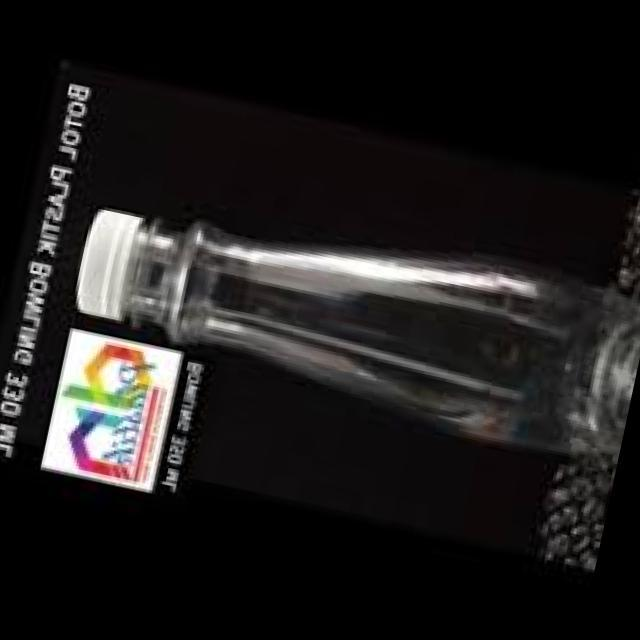good: (57, 140, 640, 484)
